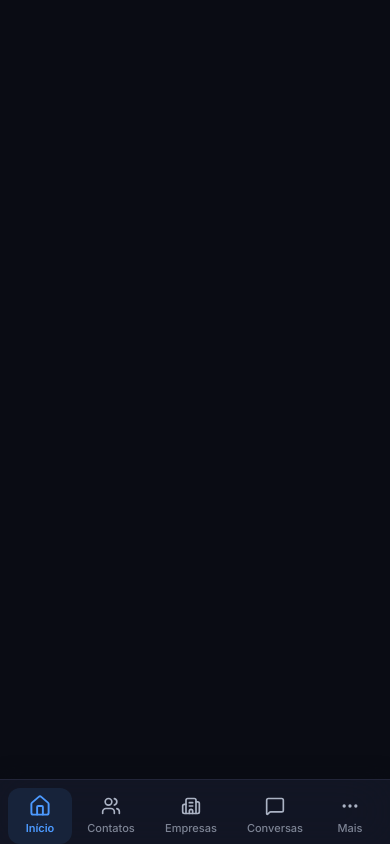
MobileBottomNav › mantem visiveis as rotas fora do mapa de permissoes
This screenshot has width=390, height=844.
Step 1. Click the button "Mais" → (350, 816), box [318,788,382,843]
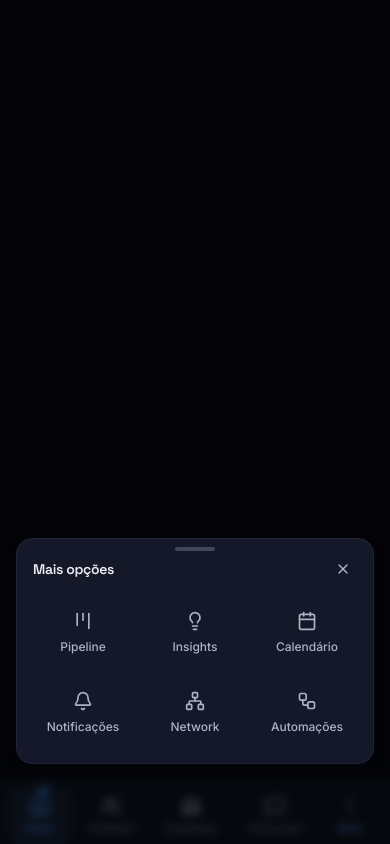
Expected: the text "Pipeline" is shown, [60,639,106,655]
Expected: the text "Insights" is shown, [172,639,218,655]
